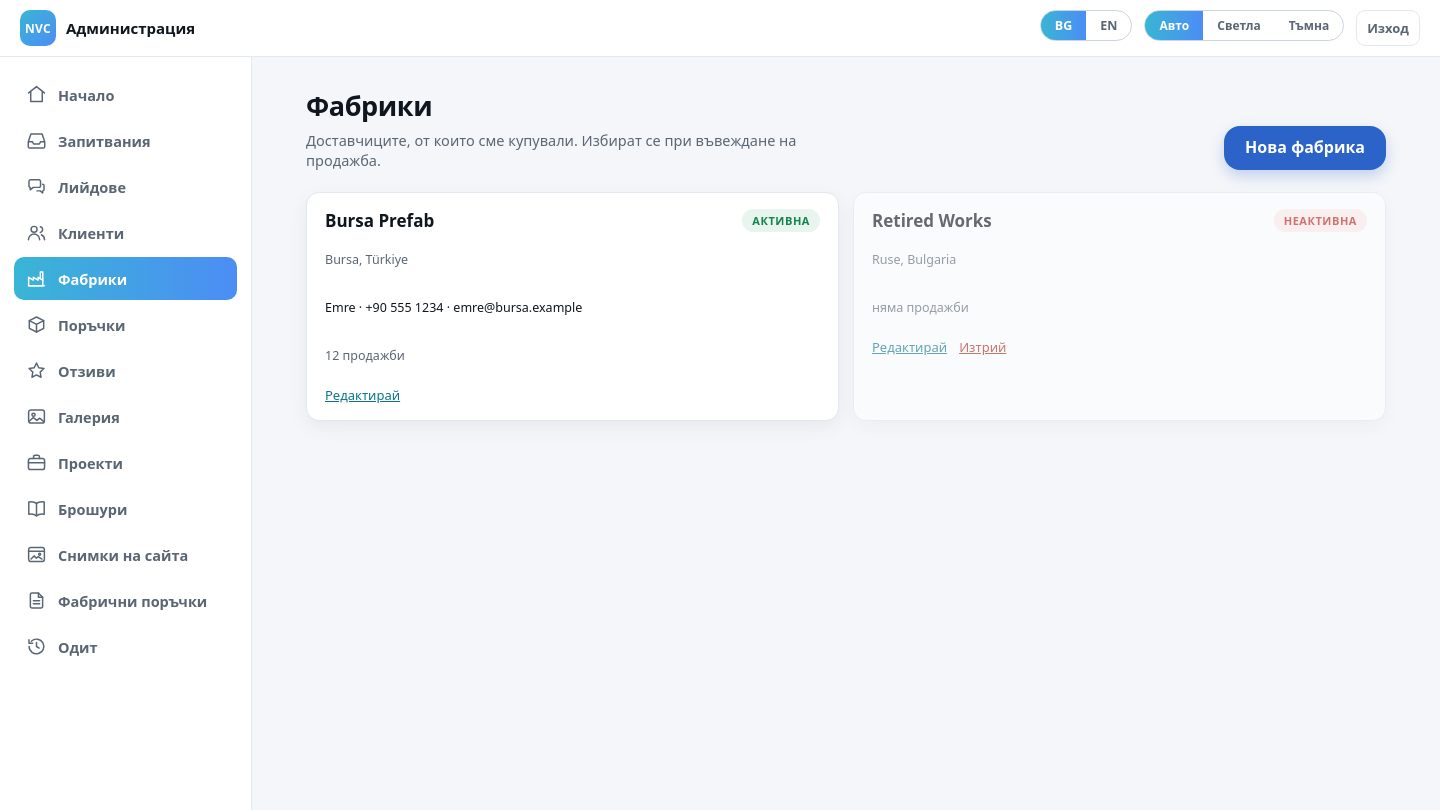
Test: AdminFactoriesPage › warns about a duplicate name but saves anyway
Expected: the heading "Bursa Prefab" is shown, [325, 209, 434, 232]
Click the button "Нова фабрика" at [1305, 148], box [1224, 126, 1386, 170]
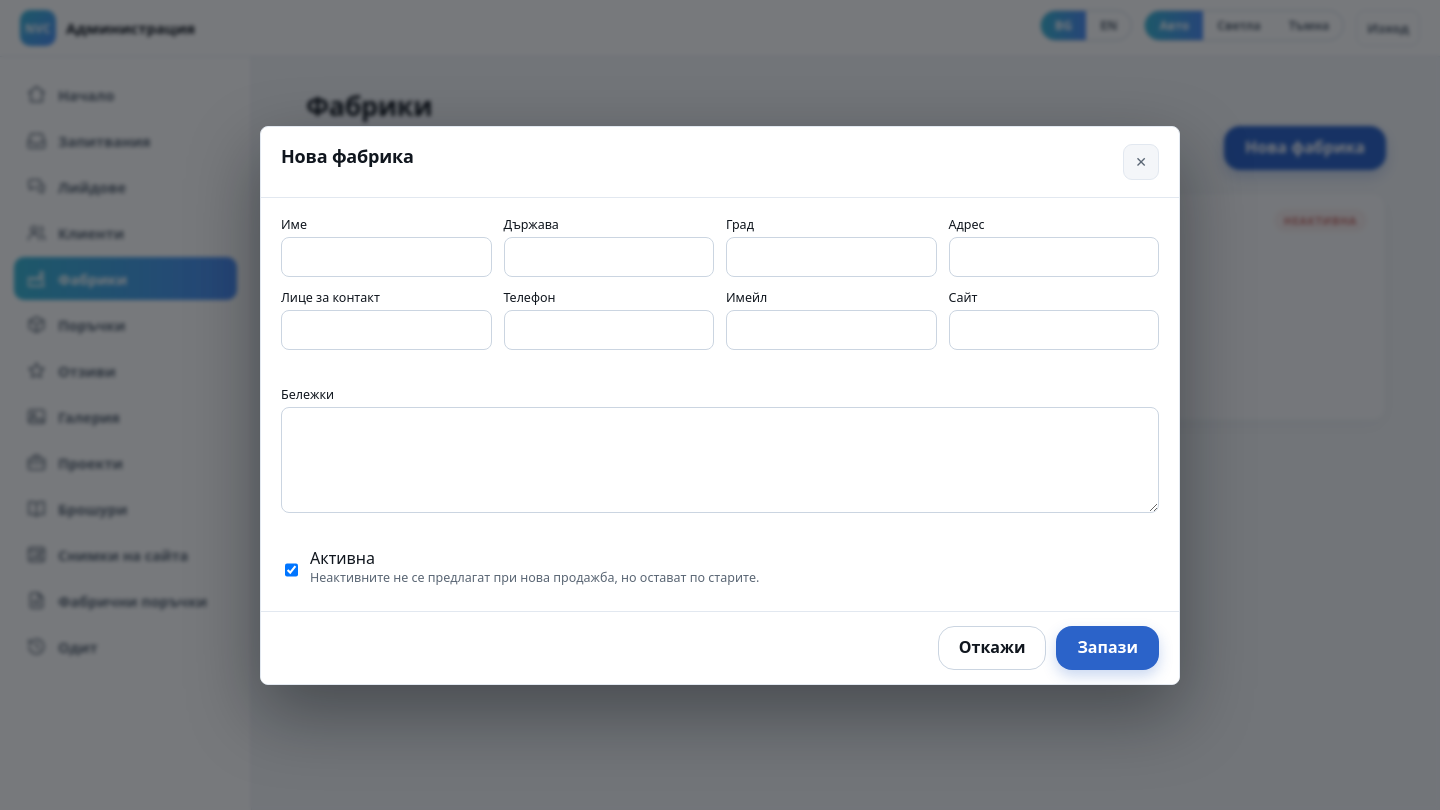
Type "Bursa Prefab" into the field labelled "Име" at [386, 256], box [281, 236, 492, 276]
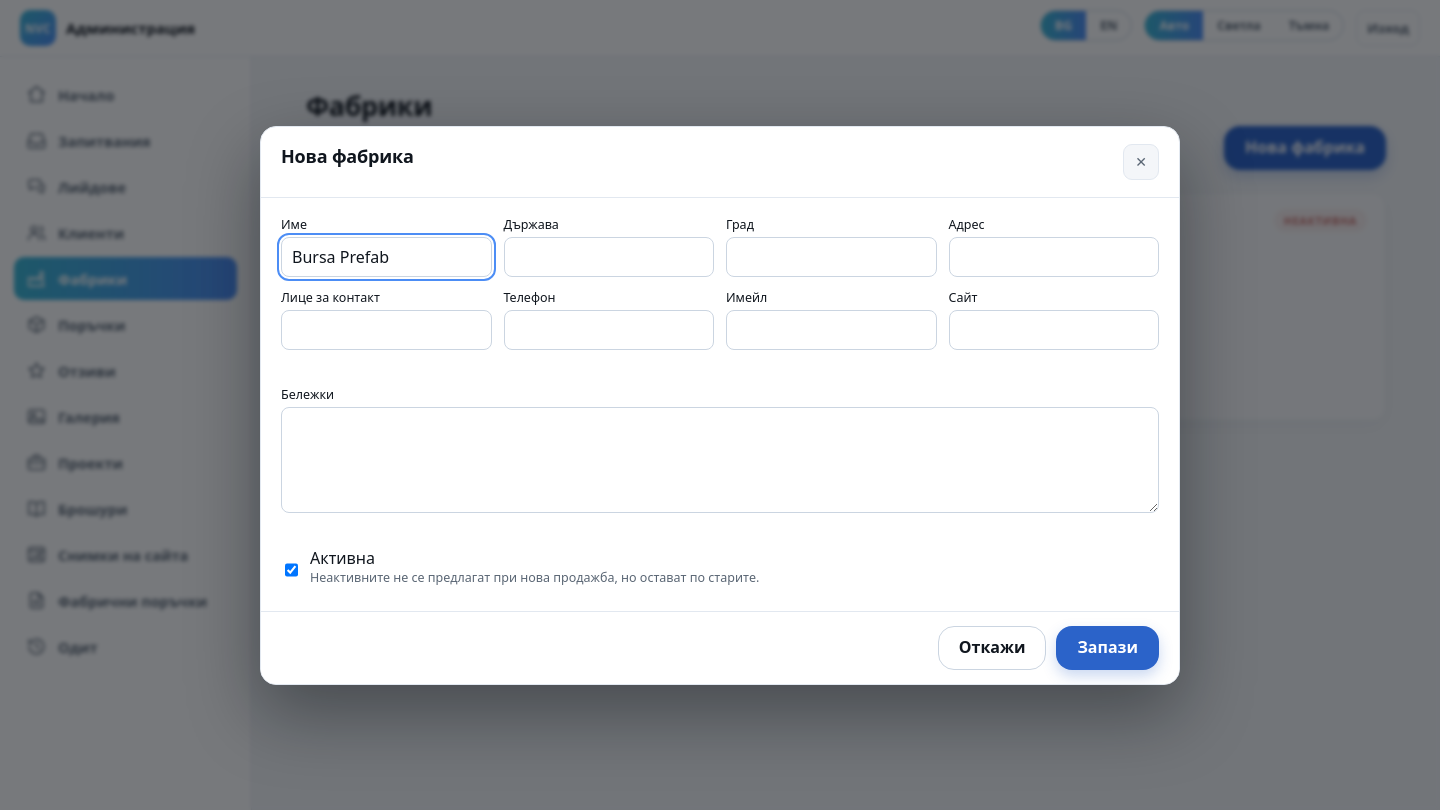
Click the button "Запази" at [1108, 648], box [1056, 626, 1159, 670]
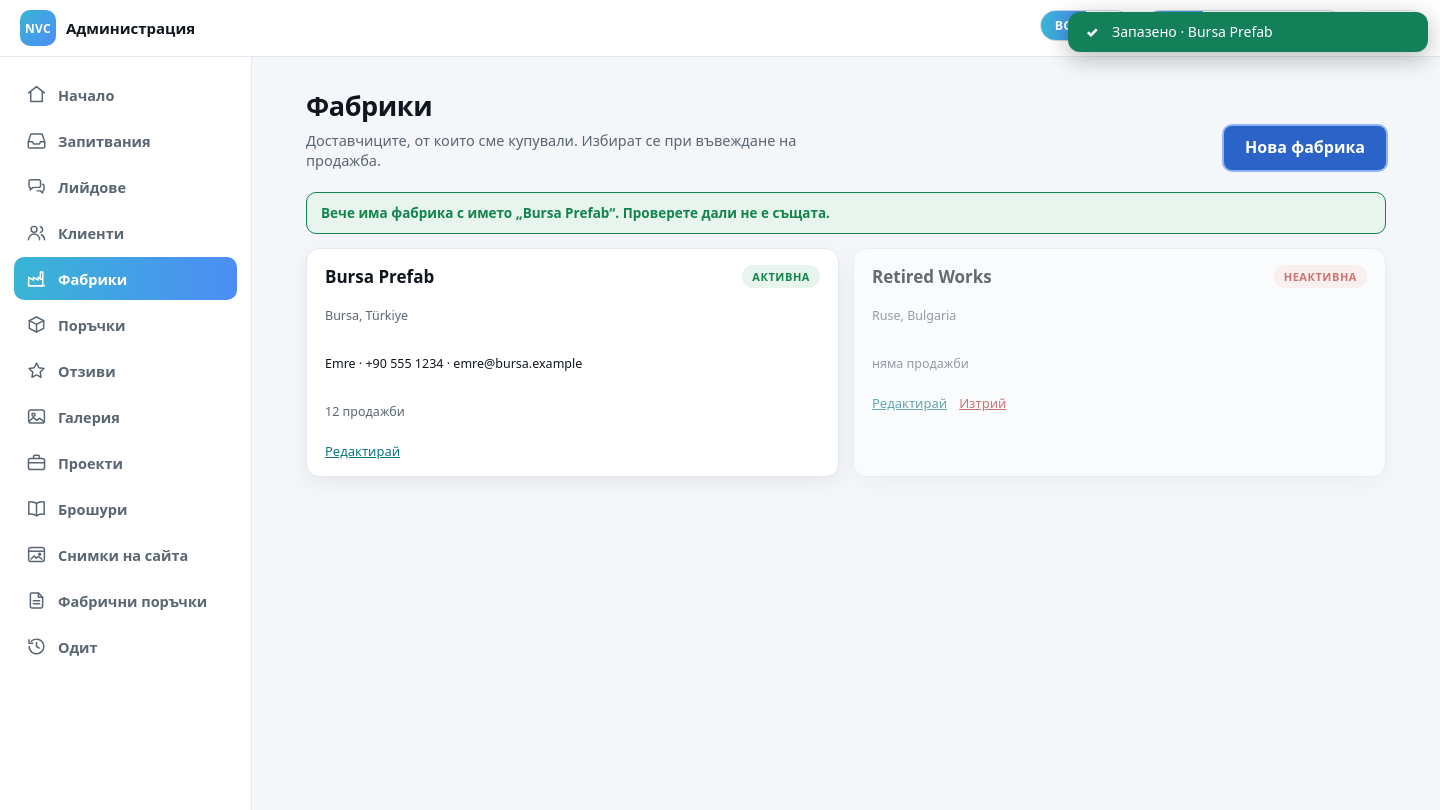
Result: the text "Вече има фабрика" is shown at [321, 204, 830, 222]
